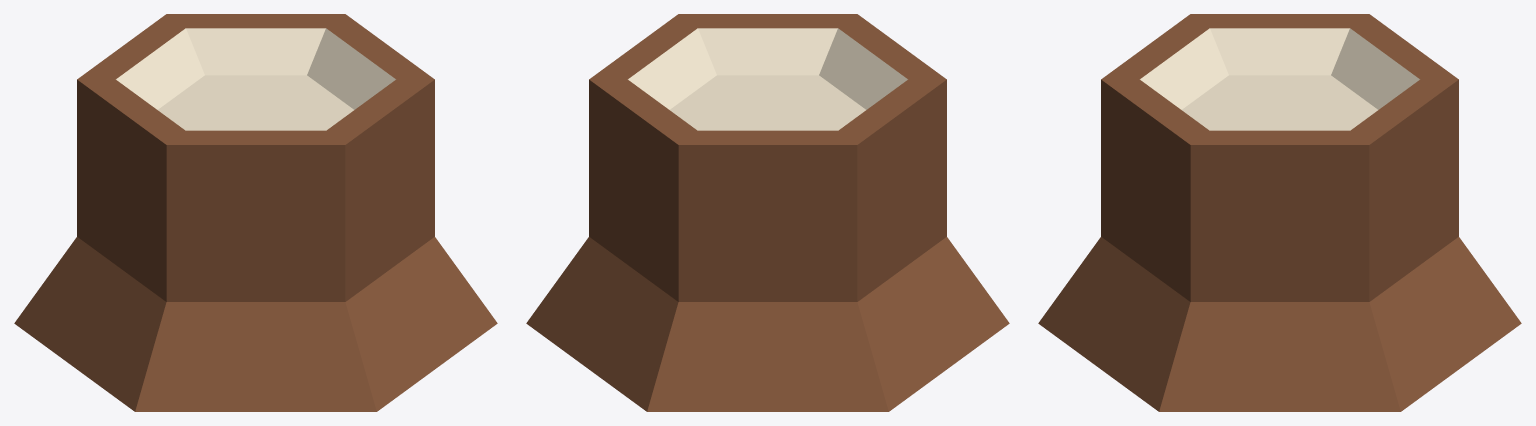
File: stump.glb
3 views of the same model, side by side, from view 1: azimuth 30°, elevation 25°; view 2: azimuth 150°, elevation 25°; view 3: azimuth 270°, elevation 25° (orthographic).
Visible parts, largest first — view 1: stump_round; view 2: stump_round; view 3: stump_round.
Part boxes in pixels (box(x1,y1,x2,y2)): stump_round: box(14, 14, 497, 411); stump_round: box(526, 14, 1009, 411); stump_round: box(1038, 14, 1521, 411).
Size of the model in its own units: 0.5141 by 0.3304 by 0.5936.
